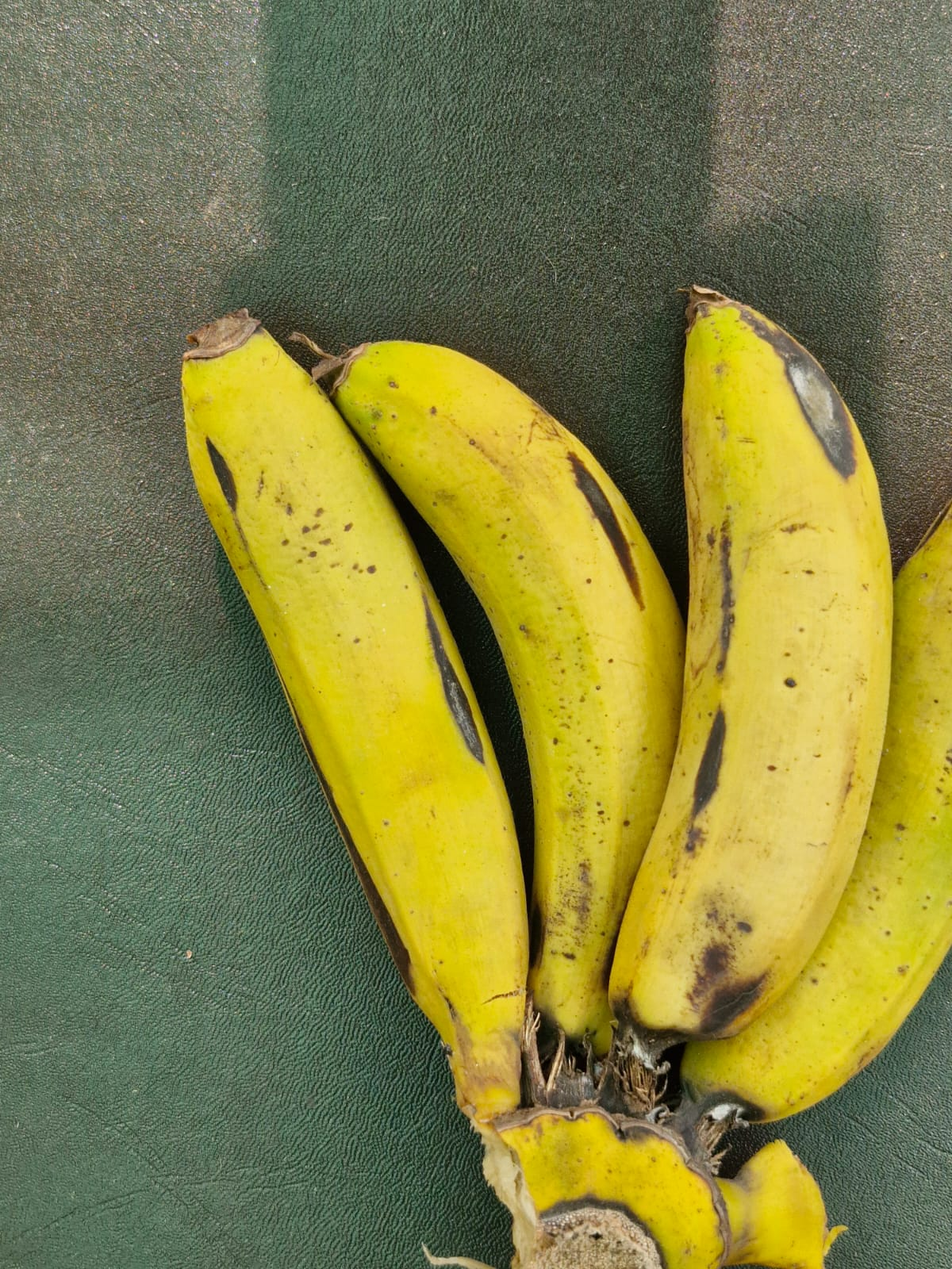banana: (77, 203, 850, 1023)
